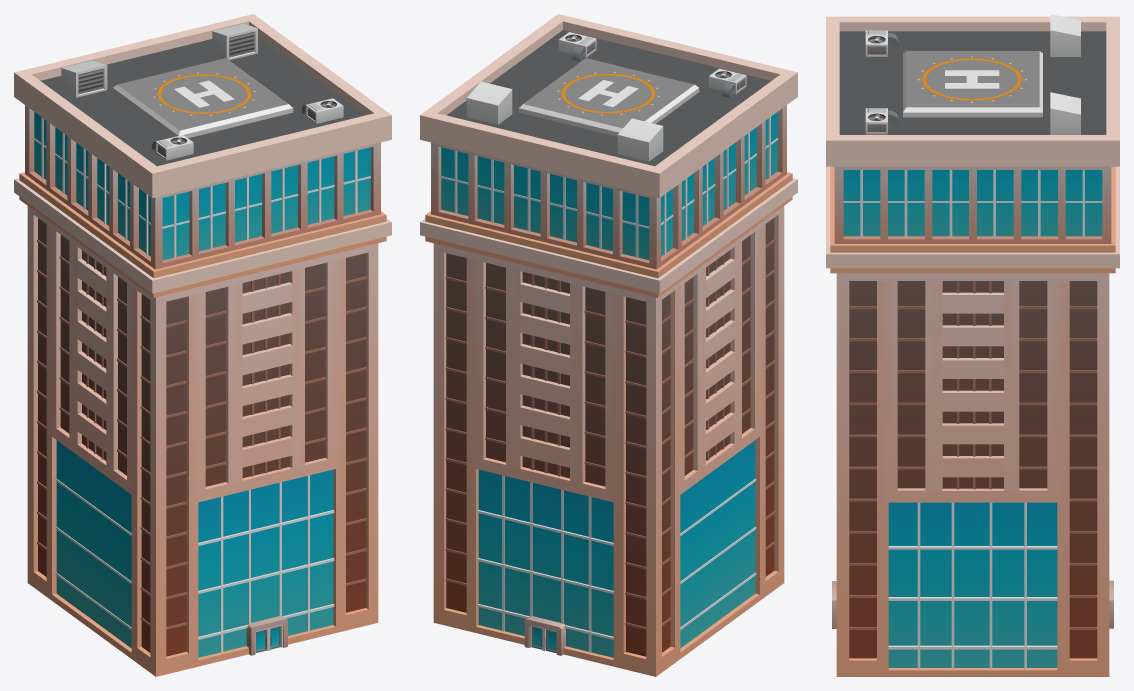
Rendered from elite_residental_building_008.glb.
The picture shows the model from 3 angles, left to right: view 1: azimuth 30°, elevation 25°; view 2: azimuth 150°, elevation 25°; view 3: azimuth 270°, elevation 25°; orthographic projection. The views are drawn at different scales.
Parts seen in each view (by area): view 1: elite_residental_building_008; view 2: elite_residental_building_008; view 3: elite_residental_building_008.
Part boxes in pixels (x1,y1,x2,y2): elite_residental_building_008: (14,14,391,676); elite_residental_building_008: (420,14,797,676); elite_residental_building_008: (826,14,1119,676).
Bounding box in the file's own units: 25.27 × 52.97 × 25.27.
3 materials, 3 textured.
